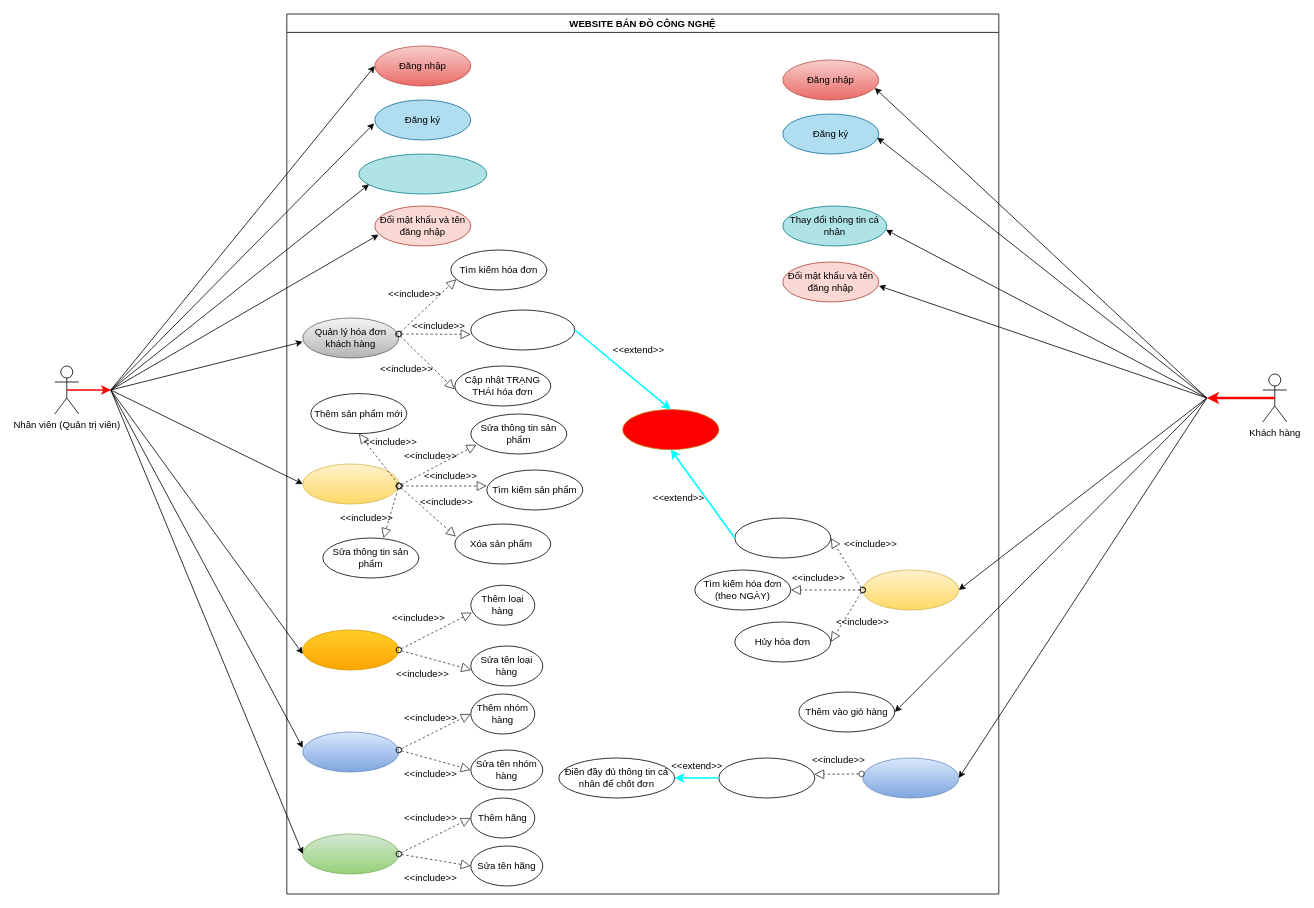
The diagram is 1314 pixels wide and 908 high, and some of its shapes have lost their labels. The shapes that lost their labels are listed below. From the top down, each one's centre as x and y in pixels, then its label:
At pixel 422 173: "Thay đổi thông tin cá nhân (ngoại trừ LƯƠNG)".
At pixel 522 329: "Xem danh sách hóa đơn các khác hàng".
At pixel 670 429: "Xem chi tiết hóa đơn từng cá nhân".
At pixel 350 483: "Quản lý sản phẩm".
At pixel 782 537: "Xem danh sách đơn hàng đã mua".
At pixel 910 589: "Quản lý hóa đơn cá nhân".
At pixel 350 649: "Quản lý loại hàng".
At pixel 350 751: "Quản lý nhóm hàng".
At pixel 766 777: "Chốt đơn hàng".
At pixel 910 777: "Mua hàng".
At pixel 350 853: "Quản lý hãng sản xuất".
